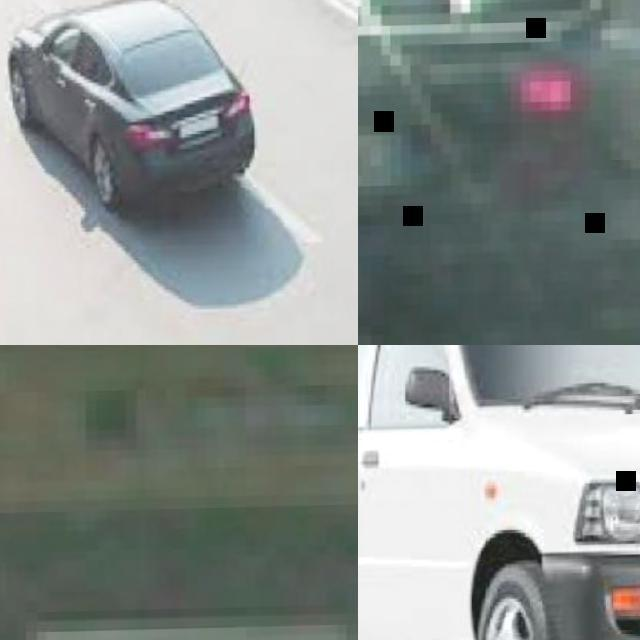car: (8, 0, 256, 217)
